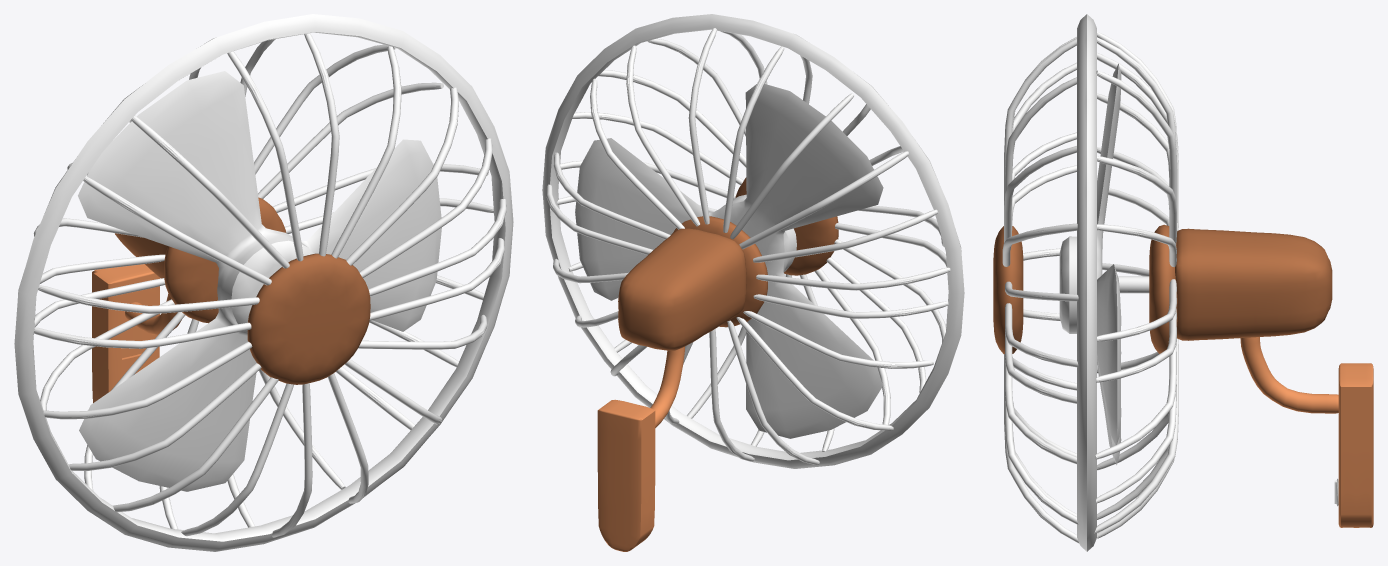
File: lowpoly_fan.glb
3 views of the same model, side by side, from view 1: azimuth 30°, elevation 25°; view 2: azimuth 150°, elevation 25°; view 3: azimuth 270°, elevation 25° (orthographic). The views are drawn at different scales.
Parts seen in each view (by area): view 1: name0_0, name7_7, name8_8, name3_3, name28_28, name12_41, name6_35, name17_46, name13_42, name5_34, name11_40, name14_43 (+24 smaller); view 2: name0_0, name7_7, name2_2, name3_3, name28_28, name8_8, name20_20, name23_23, name11_11, name24_24, name10_10, name9_9 (+21 smaller); view 3: name2_2, name7_7, name0_0, name3_3, name8_8, name6_6, name28_28, name15_15, name23_23, name14_14, name12_41, name14_43 (+26 smaller).
Part boxes in pixels (left/top/right/bottom): name0_0: left=78, top=71, right=441, bottom=491; name7_7: left=14, top=14, right=513, bottom=551; name8_8: left=247, top=253, right=370, bottom=384; name3_3: left=92, top=264, right=159, bottom=402; name28_28: left=164, top=197, right=286, bottom=323; name12_41: left=304, top=33, right=339, bottom=256; name6_35: left=112, top=377, right=278, bottom=512; name17_46: left=38, top=285, right=259, bottom=313; name13_42: left=331, top=46, right=401, bottom=258; name5_34: left=44, top=341, right=252, bottom=419; name11_40: left=346, top=87, right=458, bottom=265; name14_43: left=227, top=51, right=303, bottom=261; name0_0: left=575, top=84, right=883, bottom=438; name7_7: left=542, top=14, right=964, bottom=468; name2_2: left=618, top=228, right=746, bottom=350; name3_3: left=597, top=399, right=655, bottom=551; name28_28: left=673, top=216, right=767, bottom=327; name8_8: left=735, top=177, right=838, bottom=275; name20_20: left=739, top=151, right=908, bottom=249; name23_23: left=688, top=28, right=716, bottom=224; name11_11: left=743, top=311, right=933, bottom=368; name24_24: left=626, top=45, right=699, bottom=226; name10_10: left=753, top=294, right=948, bottom=318; name9_9: left=756, top=267, right=950, bottom=290; name2_2: left=1175, top=228, right=1332, bottom=340; name7_7: left=1077, top=14, right=1096, bottom=551; name0_0: left=1059, top=63, right=1121, bottom=464; name3_3: left=1338, top=363, right=1373, bottom=527; name8_8: left=993, top=226, right=1023, bottom=354; name6_6: left=1240, top=337, right=1338, bottom=413; name28_28: left=1149, top=224, right=1177, bottom=353; name15_15: left=1094, top=338, right=1178, bottom=533; name23_23: left=1096, top=70, right=1177, bottom=231; name14_14: left=1095, top=335, right=1176, bottom=459; name12_41: left=1005, top=77, right=1076, bottom=236; name14_43: left=1004, top=38, right=1076, bottom=209.
Size of the model in its own units: 2.28 by 2.28 by 1.61.
